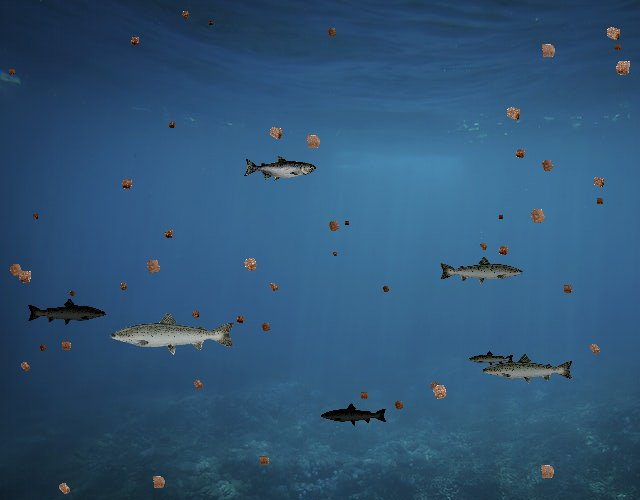Fish: (108, 310, 237, 356), (482, 352, 576, 386), (438, 255, 524, 286), (27, 297, 108, 327), (243, 156, 316, 182), (320, 402, 388, 426), (469, 350, 516, 367)
Pellet: (608, 53, 638, 82), (236, 251, 264, 279), (262, 120, 289, 147), (52, 476, 77, 500), (29, 211, 41, 223)
